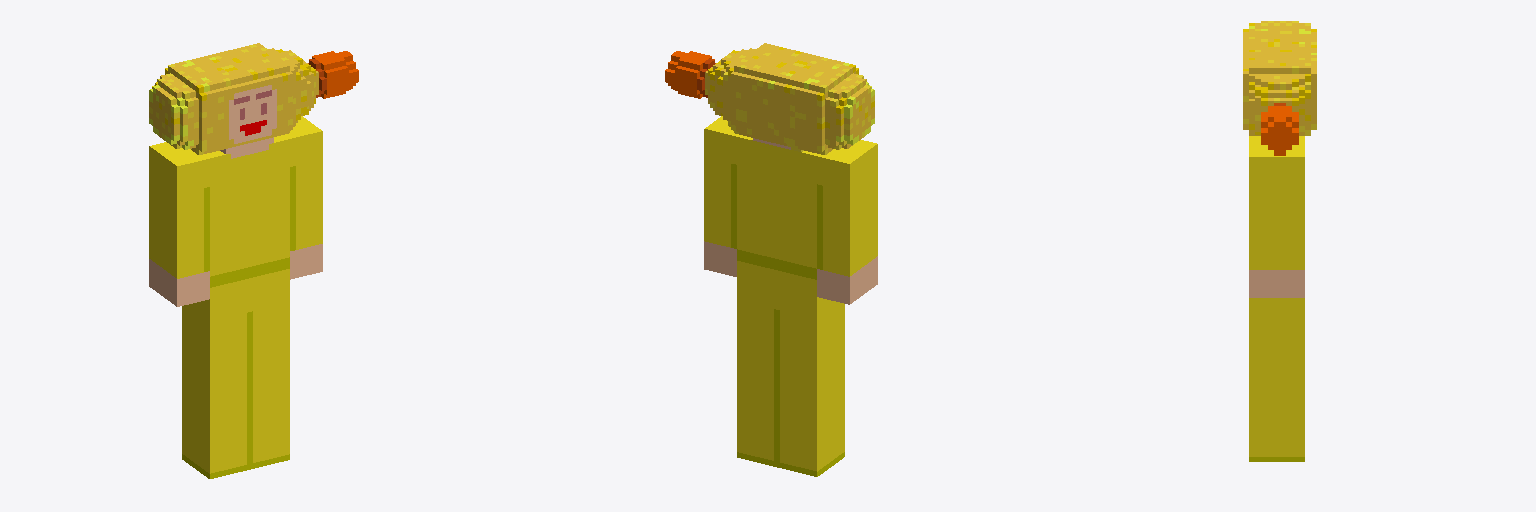
The picture shows the model from 3 angles: view 1: azimuth 30°, elevation 25°; view 2: azimuth 150°, elevation 25°; view 3: azimuth 270°, elevation 25°; orthographic projection.
Visible parts, largest first — view 1: object 1; view 2: object 1; view 3: object 1.
Part boxes in pixels (x1,y1,x2,y2): object 1: (149, 43, 358, 478); object 1: (665, 43, 877, 476); object 1: (1243, 21, 1316, 461).
Bounding box in the file's own units: 3.5 × 7 × 1.2.
Materials: 1 (1 with a texture image).